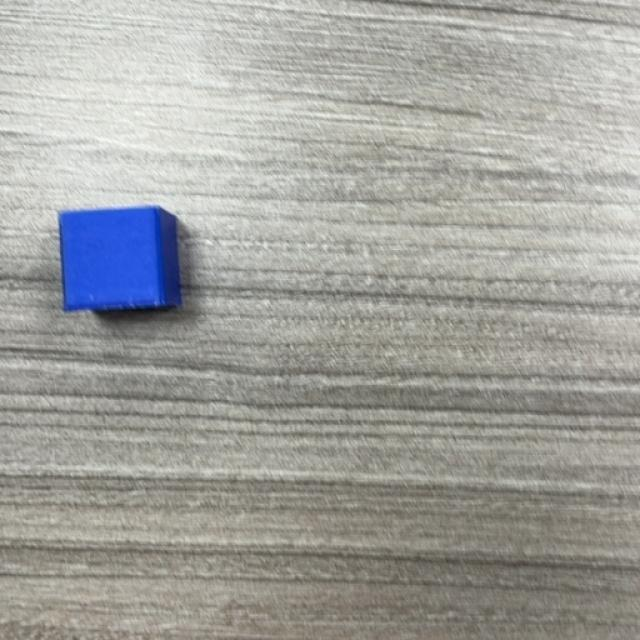Azul: (59, 206, 184, 312)
